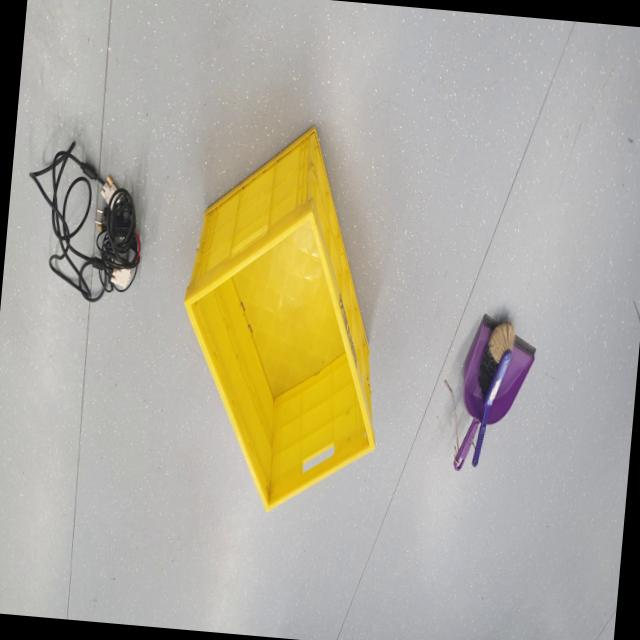box: (150, 98, 402, 544)
